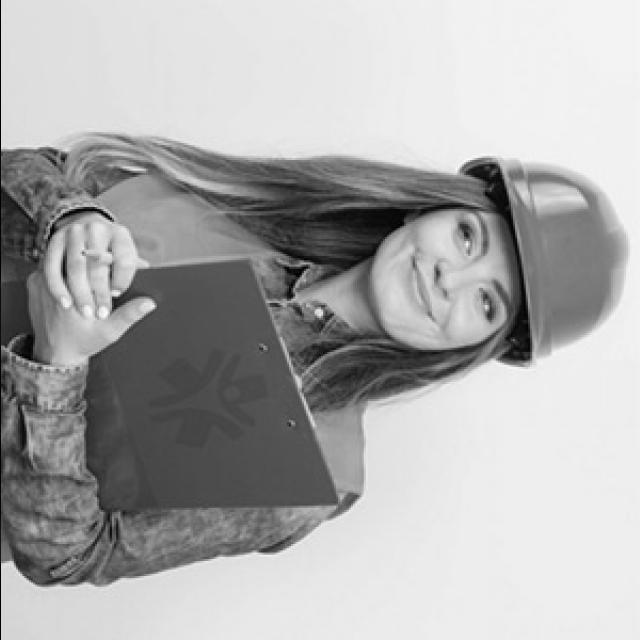safety_helmet: (454, 156, 629, 367)
